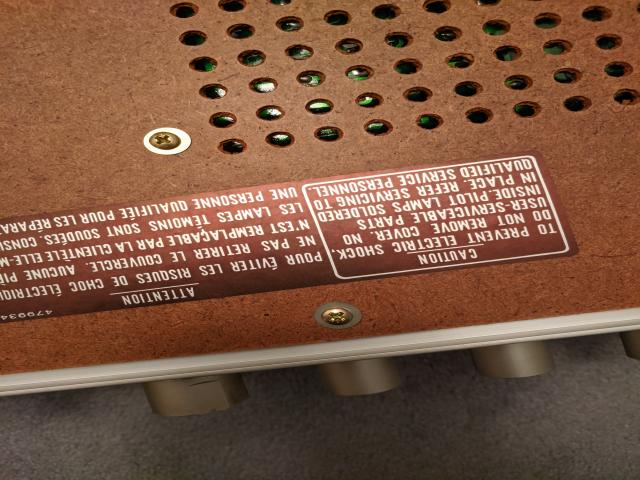CRS: (150, 133, 181, 149), (323, 308, 350, 326)
